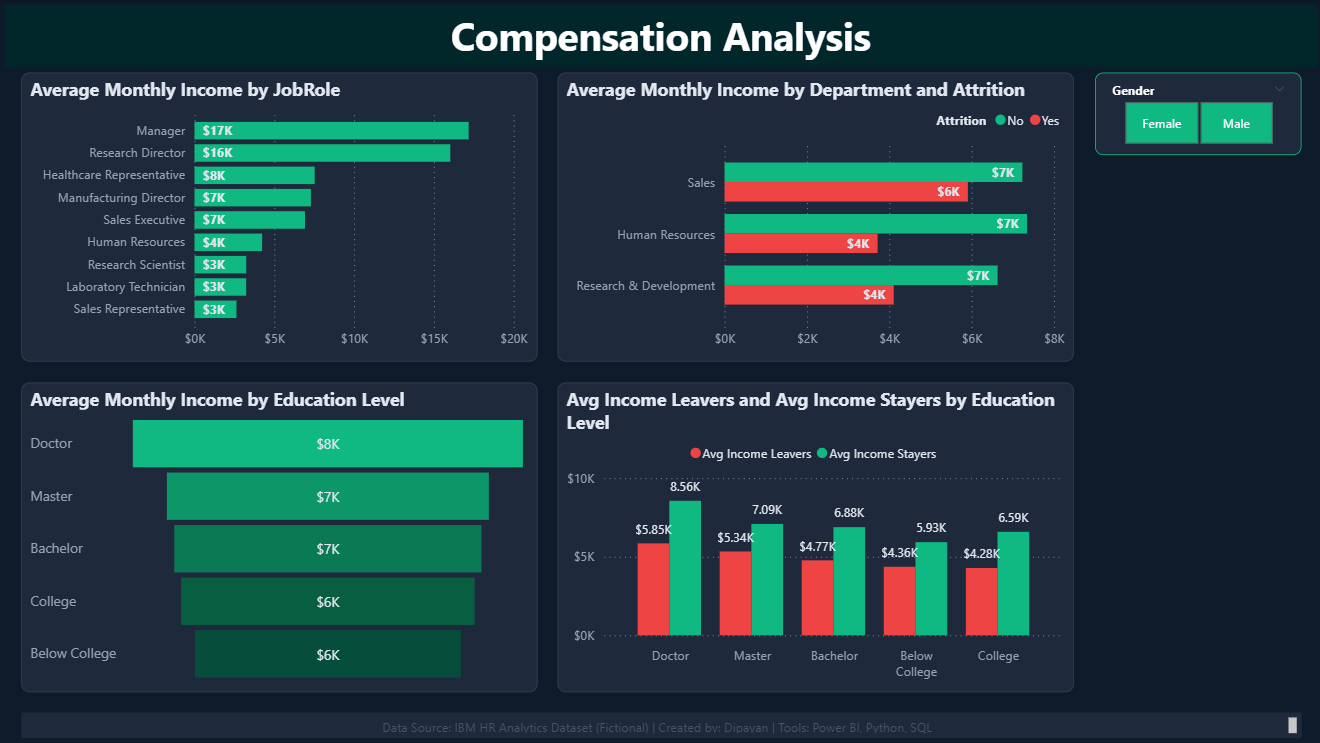

This screenshot's page, from the dashboard's own definition file:
{"tool":"powerbi","page":{"name":"Compensation Analysis","canvas":[1280,720],"ordinal":2},"visuals":[{"type":"clusteredBarChart","fields":{"Y":["_Measures.Average Monthly Income"],"Category":["HR_Data.JobRole"]},"box":[20,70,500,280],"z":0},{"type":"funnel","fields":{"Category":["HR_Data.Education Level"],"Y":["_Measures.Average Monthly Income"]},"box":[20,370,500,300],"z":1000},{"type":"clusteredBarChart","fields":{"Y":["_Measures.Average Monthly Income"],"Category":["HR_Data.Department"],"Series":["HR_Data.Attrition"]},"box":[540,70,500,280],"z":2000},{"type":"clusteredColumnChart","fields":{"Y":["_Measures.Avg Income Leavers","_Measures.Avg Income Stayers"],"Category":["HR_Data.Education Level"]},"box":[540,370,500,300],"z":3000},{"type":"slicer","fields":{"Values":["HR_Data.Gender"]},"box":[1060,70,200,80],"z":4000},{"type":"textbox","box":[5,5,1270,60],"z":5000},{"type":"textbox","box":[20,690,1240,25],"z":6000}]}

Visuals, with their boxes in screenshot pixels (x1, y1, x2, y2), scaled from the page's 1280x720 canvas onto the 1320x743 screenshot:
clusteredBarChart - _Measures.Average Monthly Income x HR_Data.JobRole: BBox(21, 72, 536, 361)
funnel - HR_Data.Education Level x _Measures.Average Monthly Income: BBox(21, 382, 536, 691)
clusteredBarChart - _Measures.Average Monthly Income x HR_Data.Department: BBox(557, 72, 1072, 361)
clusteredColumnChart - _Measures.Avg Income Leavers x _Measures.Avg Income Stayers: BBox(557, 382, 1072, 691)
slicer - HR_Data.Gender: BBox(1093, 72, 1299, 155)
textbox: BBox(5, 5, 1315, 67)
textbox: BBox(21, 712, 1299, 738)
